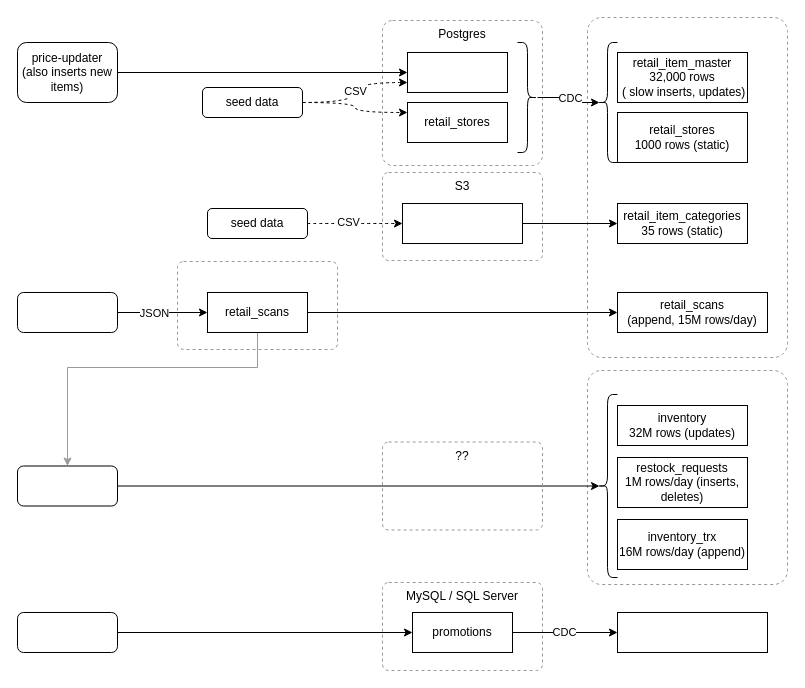
Image size: 805x688. Some labels were removed from this diagram. The shapes that lost their labels are listed below. From the top down, each one's box as (x1, y1, x2, y2) in pixels, then its label:
(406, 52, 508, 92): item_master
(586, 16, 788, 358): Onehouse Data Lake
(402, 202, 522, 244): item_categories
(16, 292, 118, 332): point-of-sale scan generator
(176, 260, 338, 350): Confluent
(16, 465, 118, 506): inventory updater
(586, 370, 788, 584): Hudi Data Lake
(16, 612, 118, 652): promotions data generator
(616, 612, 768, 652): promotions (inserts, updates)
